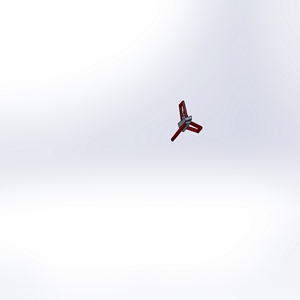submarine: (154, 95, 224, 157)
